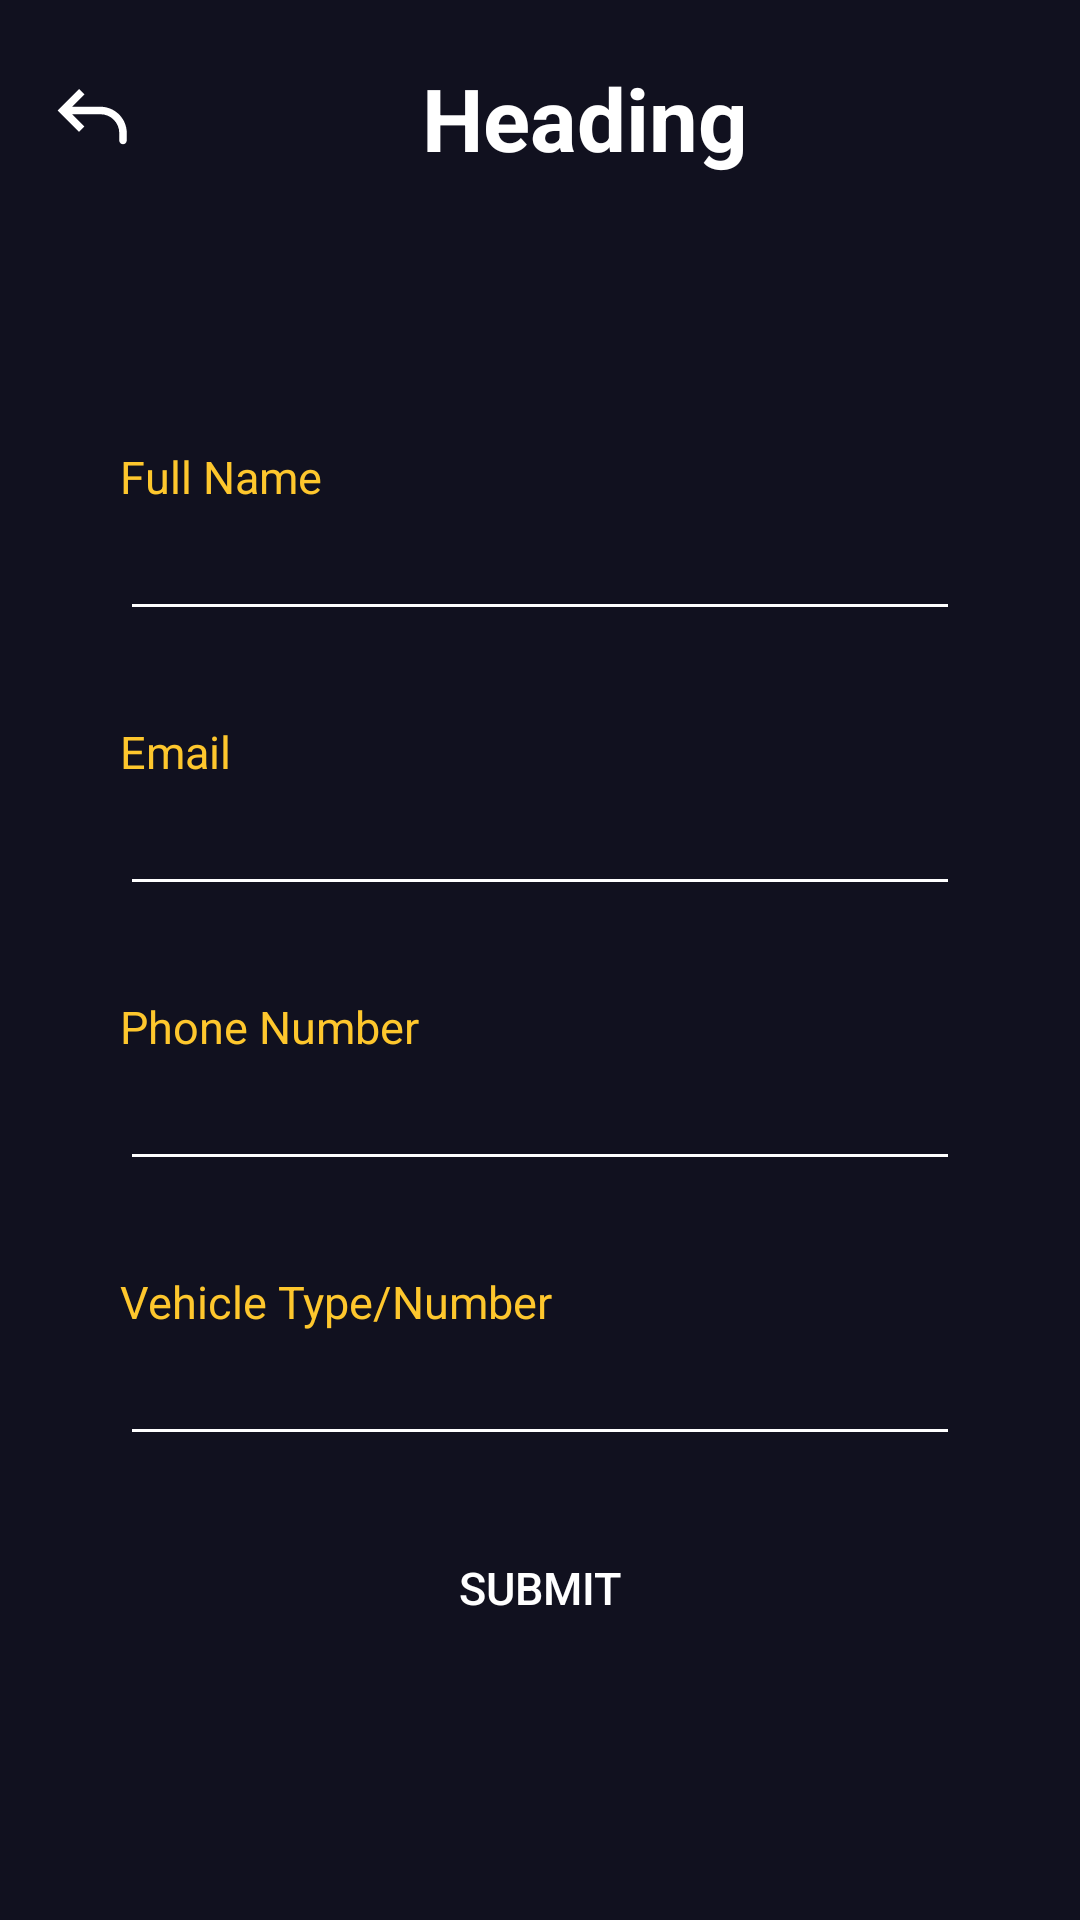

Icon click points for this 1080w x 1920h phone screenshot, format (x,y):
back: (92,117)
